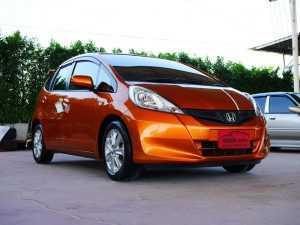Hatchback: (23, 42, 276, 182)
